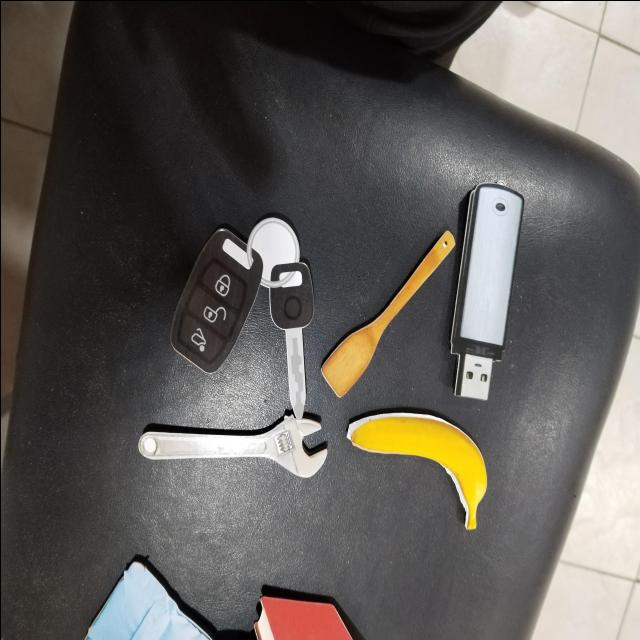Other Objects: (150, 196, 323, 384), (318, 219, 463, 400), (443, 177, 525, 404), (346, 409, 487, 530), (137, 408, 328, 477), (85, 559, 210, 640), (285, 329, 307, 417)
